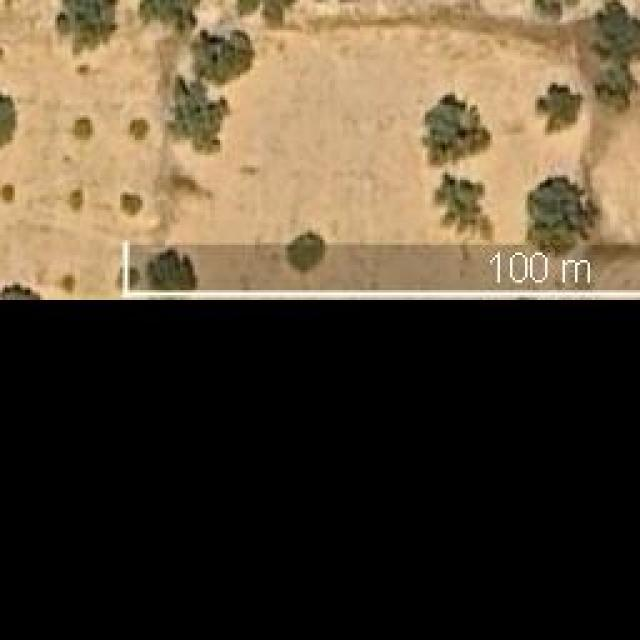Tree: (525, 172, 600, 254), (423, 90, 490, 166), (595, 0, 640, 112), (168, 80, 232, 156), (435, 173, 499, 240), (55, 0, 118, 55), (190, 25, 254, 78), (143, 245, 197, 298), (535, 83, 583, 133), (140, 0, 203, 38), (280, 220, 318, 268), (233, 0, 298, 28), (0, 85, 22, 155), (67, 118, 95, 143), (0, 282, 42, 297), (128, 118, 151, 143), (65, 190, 85, 213), (123, 195, 143, 215), (55, 273, 75, 293), (0, 183, 15, 203)
